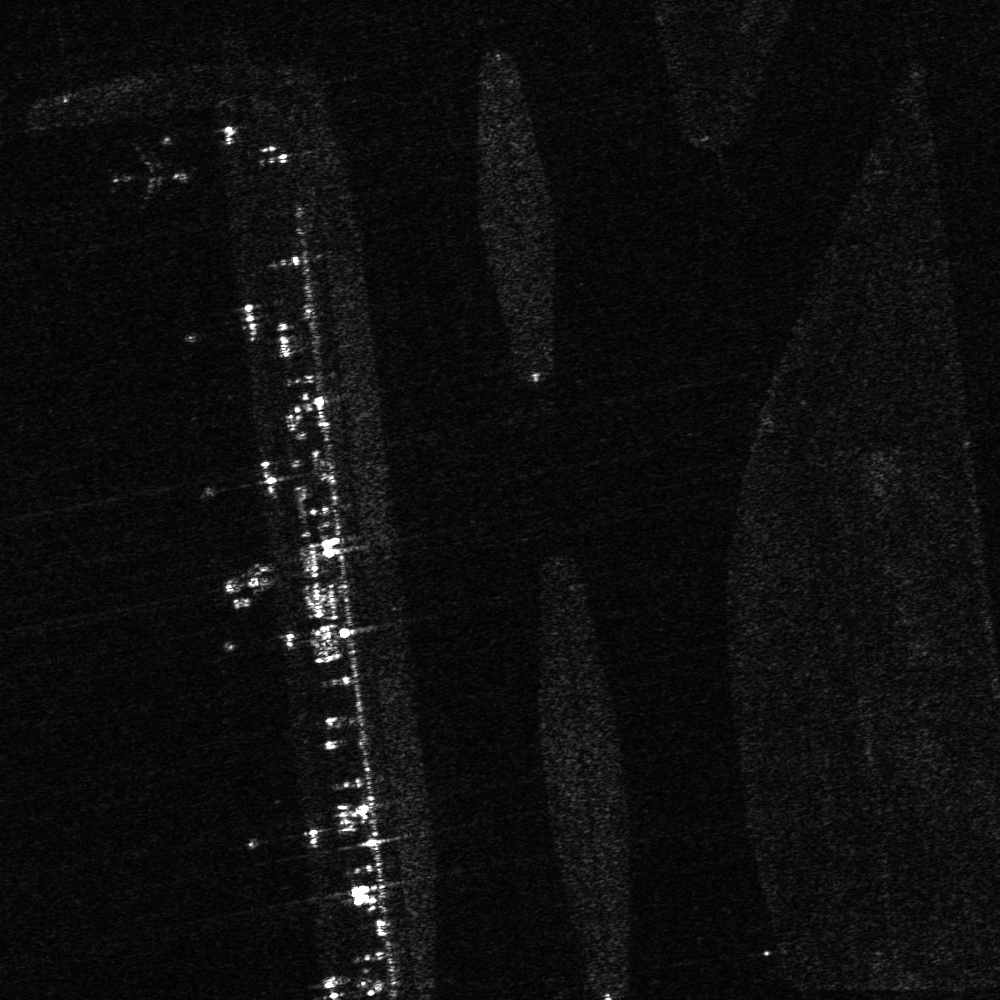Boeing737: (100, 140, 195, 213)
